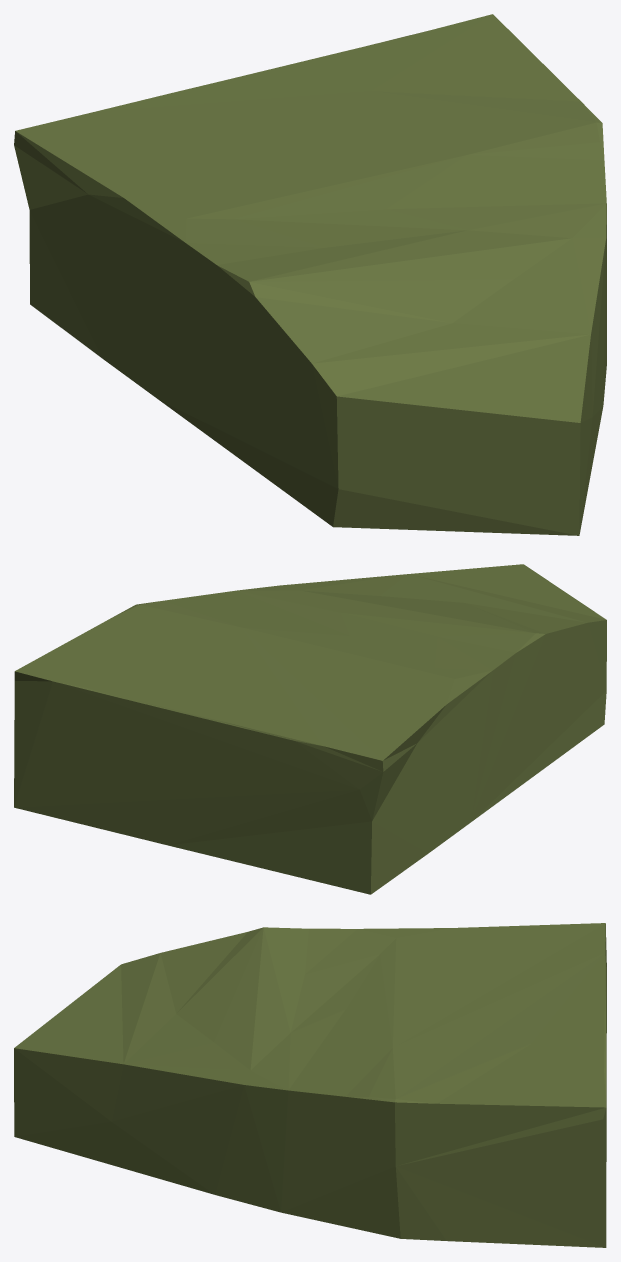
The model's file is ground_08.fbx.
3 views of the same model, one above another, from view 1: azimuth 30°, elevation 25°; view 2: azimuth 150°, elevation 25°; view 3: azimuth 270°, elevation 25° (orthographic). The views are drawn at different scales.
Parts seen in each view (by area): view 1: ground_08; view 2: ground_08; view 3: ground_08.
Boxes of the visible parts, left/top/right/bottom form: ground_08: left=14, top=14, right=606, bottom=535; ground_08: left=14, top=564, right=606, bottom=894; ground_08: left=14, top=923, right=606, bottom=1247.
Bounding box in the file's own units: 6.89 × 2.48 × 9.3.
